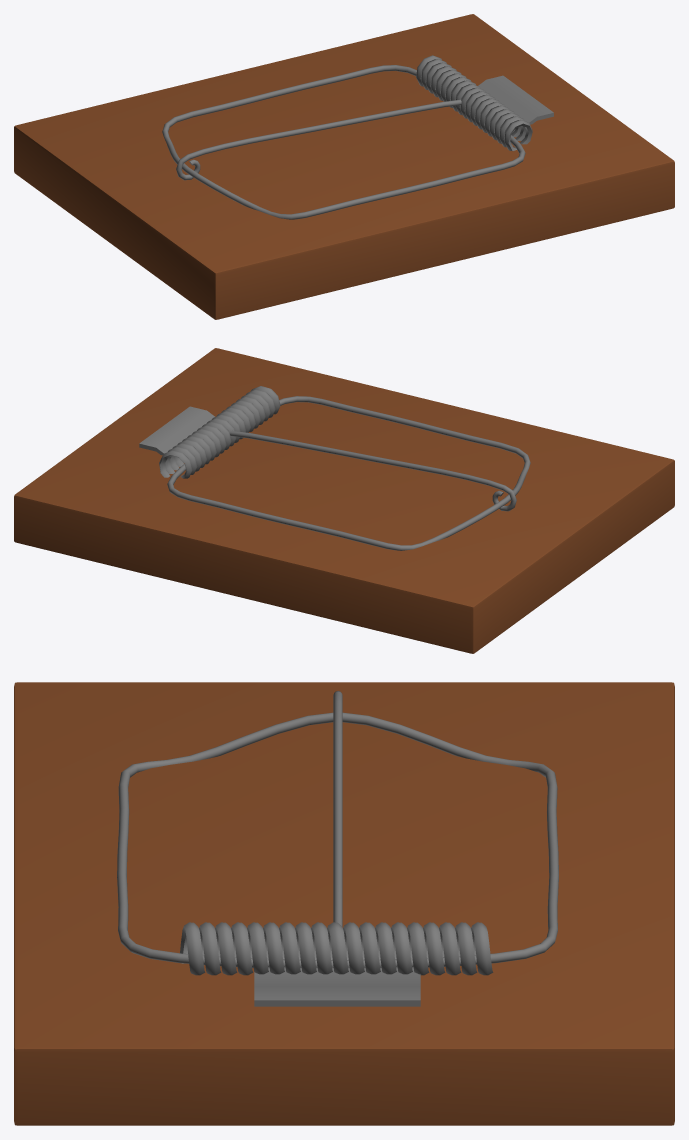
Rendered from SM_TrapMouse.fbx.
The picture shows the model from 3 angles, top to bottom: view 1: azimuth 30°, elevation 25°; view 2: azimuth 150°, elevation 25°; view 3: azimuth 270°, elevation 25°; orthographic projection. The views are drawn at different scales.
Parts seen in each view (by area): view 1: Cube, CurlyCurve.003, BézierCircle, CurlyCurve.002, Cube.001; view 2: Cube, CurlyCurve.003, BézierCircle, CurlyCurve.002, Cube.001; view 3: Cube, BézierCircle, CurlyCurve.003, Cube.001, CurlyCurve.002.
Boxes of the visible parts, x1,y1,x2,y2 form: Cube: (14,14,674,319); CurlyCurve.003: (162,65,525,219); BézierCircle: (416,55,532,151); CurlyCurve.002: (176,99,461,180); Cube.001: (478,75,553,124); Cube: (14,348,674,653); CurlyCurve.003: (167,396,530,550); BézierCircle: (159,386,280,478); CurlyCurve.002: (229,430,516,511); Cube.001: (139,406,214,455); Cube: (14,682,674,1125); BézierCircle: (180,922,493,975); CurlyCurve.003: (117,712,558,967); Cube.001: (254,967,420,1006); CurlyCurve.002: (333,691,342,926).
Bounding box in the file's own units: 398 × 64.54 × 303.
